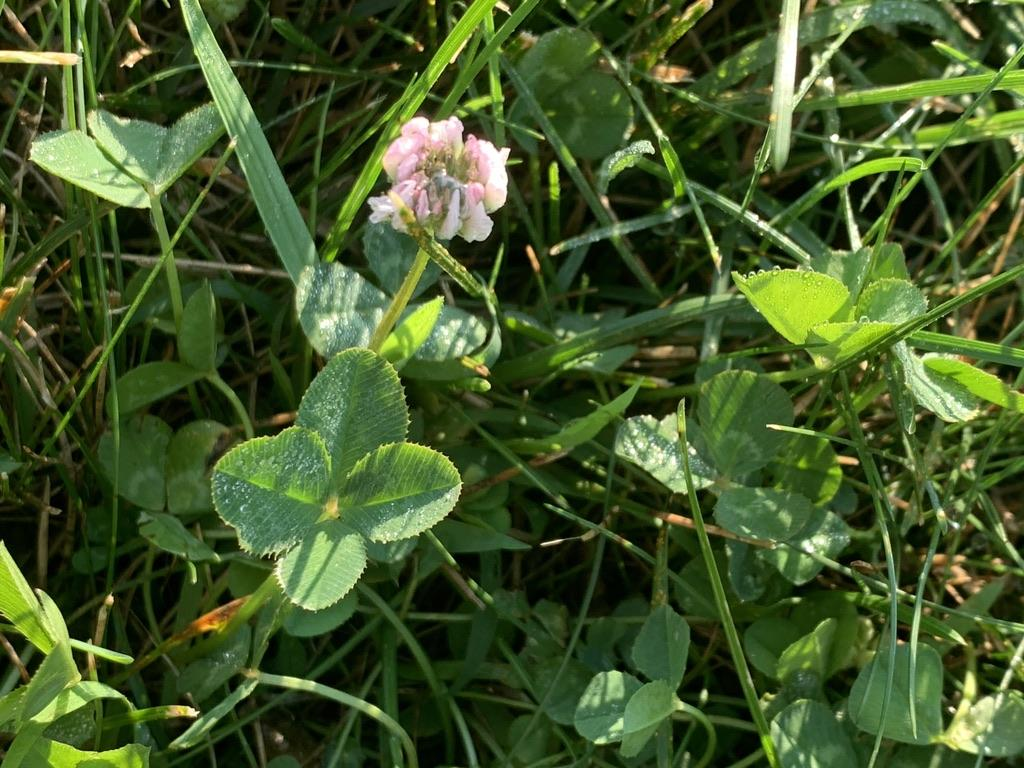4-Leaf-Clovers: (213, 346, 463, 617)
